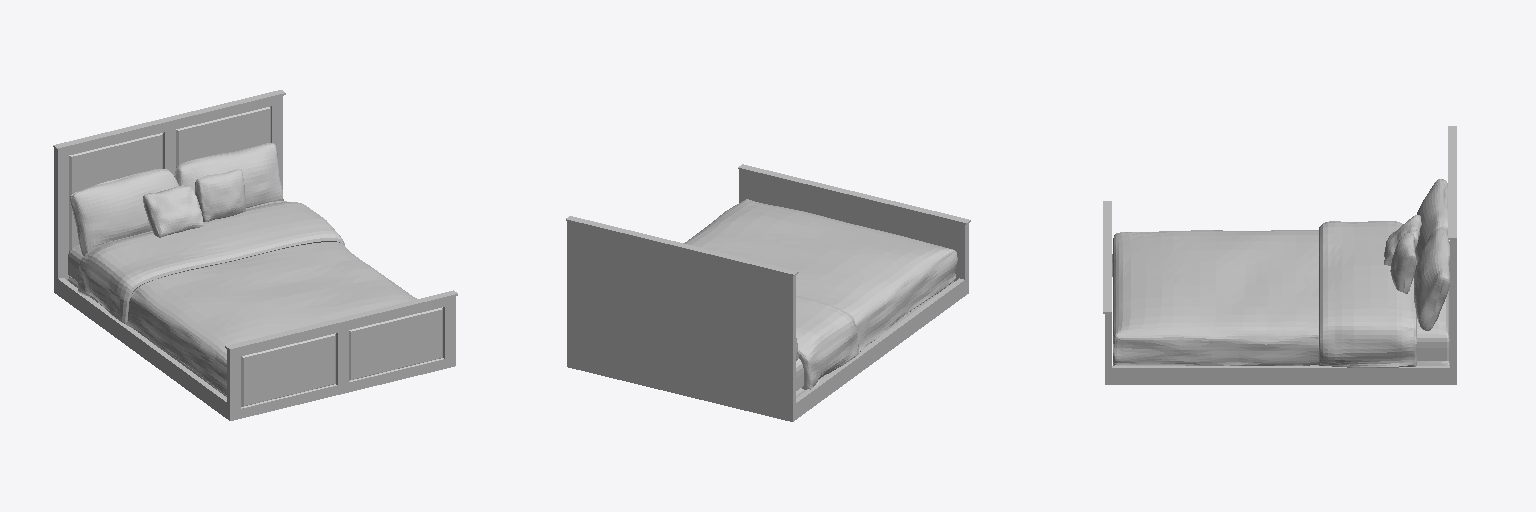
The model's file is lit.obj.
The picture shows the model from 3 angles: view 1: azimuth 30°, elevation 25°; view 2: azimuth 150°, elevation 25°; view 3: azimuth 270°, elevation 25°; orthographic projection.
Parts seen in each view (by area): view 1: lit; view 2: lit; view 3: lit.
Part boxes in pixels (x1,y1,x2,y2): lit: (53,90,457,420); lit: (566,164,970,421); lit: (1103,126,1456,384).
Bounding box in the file's own units: 0.4281 × 0.2637 × 0.5728.